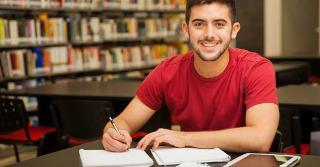person - v3 P: (103, 0, 279, 152)
